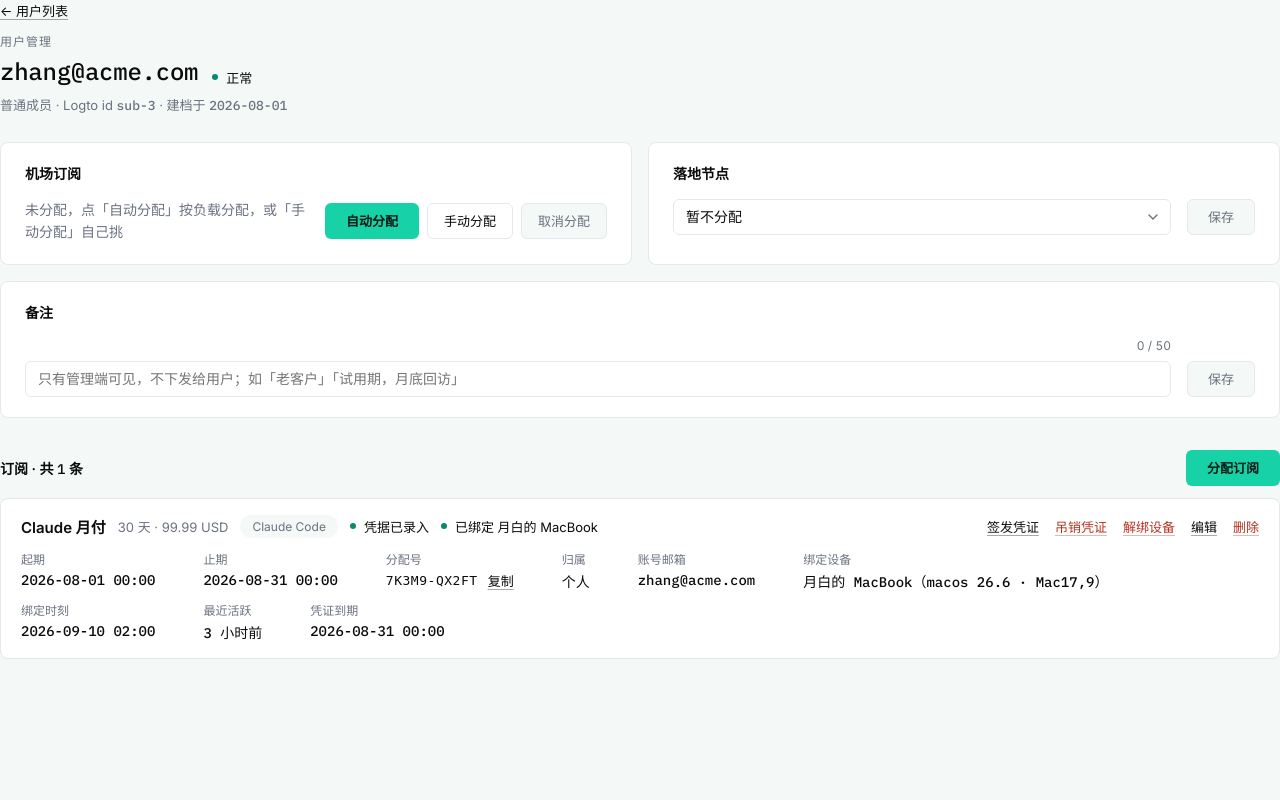
Test: UserDetailView · 设备绑定 › 解绑确认框把「原设备当场失去席位」这个代价说出来
Expected: the number of list items with class "sub-item" is 1, [0,498,1279,659]
Click the button "解绑设备": point(1149, 526) [1123,517,1175,536]
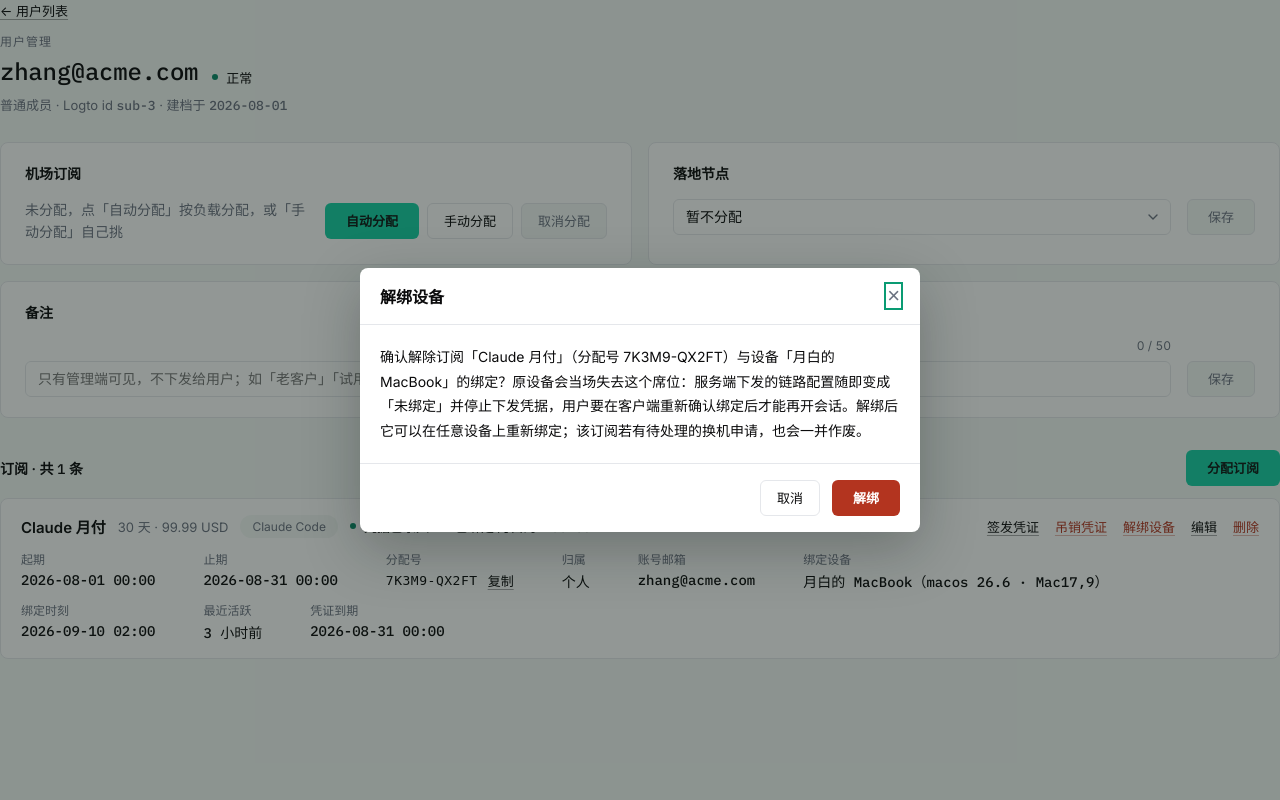
Expected: the text "当场失去这个席位" is shown, [380,348,898,438]
Expected: the text "重新确认绑定" is shown, [380,348,898,438]
